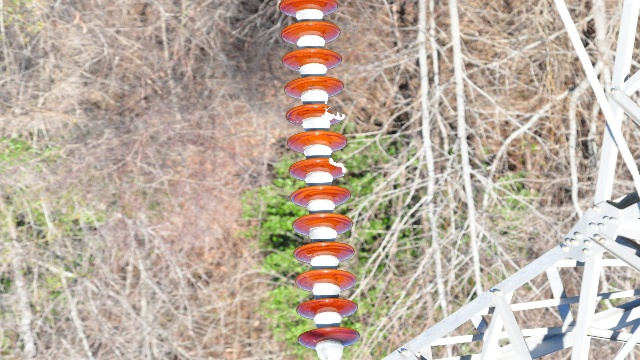broken_local: (320, 103, 347, 122), (325, 154, 345, 178)
insulator_unspecified: (278, 0, 362, 347)
